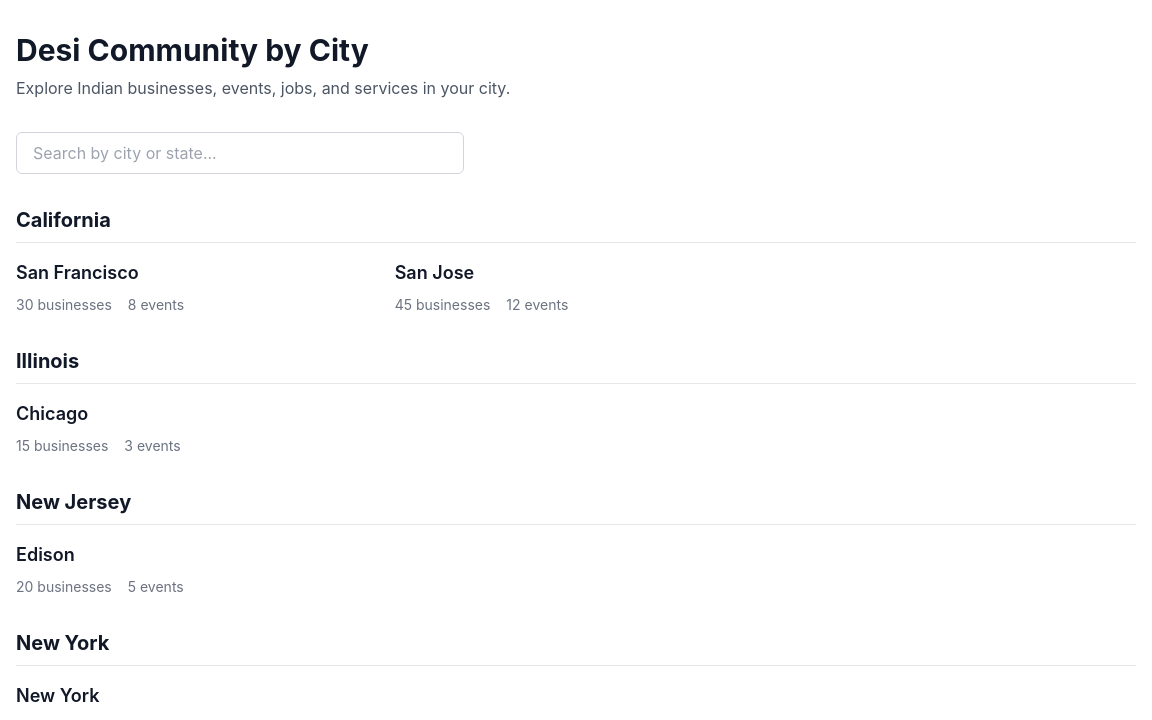
Scenario: CitiesPage › Search Filter › should filter cities by exact city name when searching for "Jose"
Check: the heading "San Jose" is shown, box [395,262,474,283]
In the field named "Search cities": (240, 153) [16,132,464,174], type "Jose"
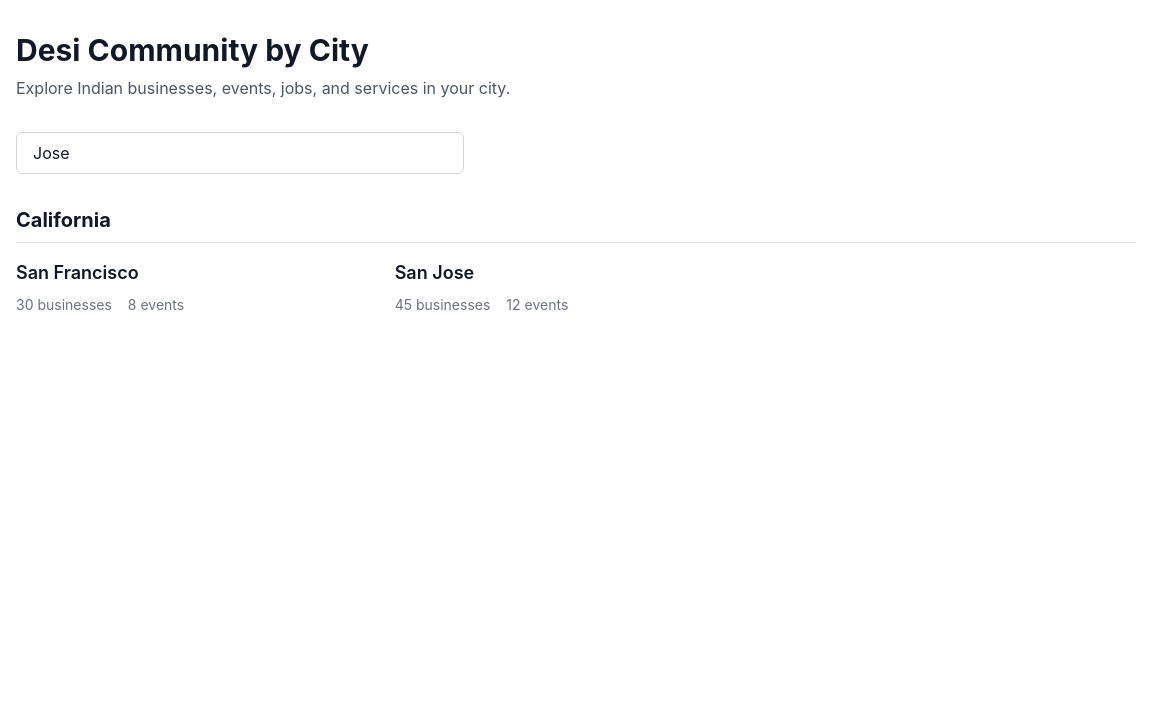
Check: the heading "San Jose" is shown, box [395,262,474,283]
Check: the link "Chicago" is gone
Check: the link "Edison" is gone
